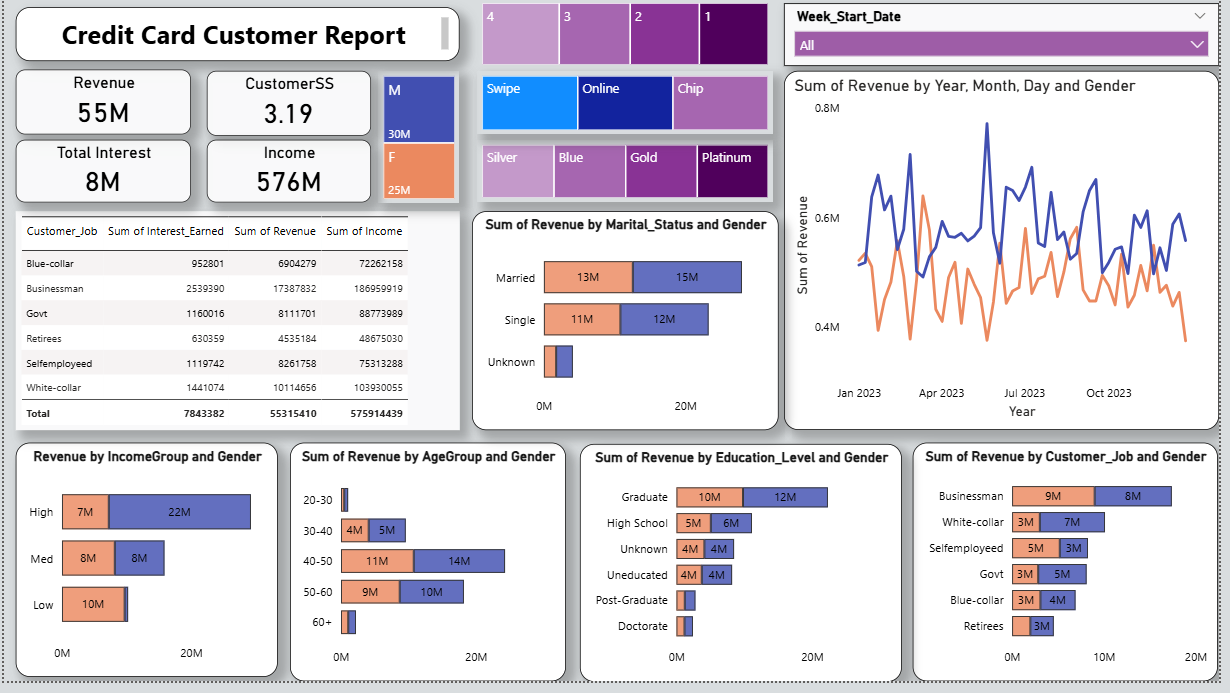

Layout of this report page (visuals, bound fields, positions):
{"tool":"powerbi","page":{"name":"Custmer2","canvas":[1280,720],"ordinal":1},"visuals":[{"type":"textbox","box":[12.9,9,467.5,56.8],"z":0},{"type":"barChart","title":"Revenue by IncomeGroup and Gender","fields":{"Y":["Sum(credit_card_detail.Revenue)"],"Category":["customer_detail.IncomeGroup"],"Series":["customer_detail.Gender"]},"box":[12.9,468.7,276.3,246.6],"z":1000},{"type":"tableEx","fields":{"Values":["customer_detail.Customer_Job","Sum(credit_card_detail.Interest_Earned)","Sum(credit_card_detail.Revenue)","Sum(customer_detail.Income)"]},"box":[12.9,224.7,467.5,231.1],"z":2000},{"type":"slicer","fields":{"Values":["credit_card_detail.Week_Start_Date"]},"box":[821.3,5.2,458.4,65.9],"z":3000},{"type":"treemap","fields":{"Group":["credit_card_detail.Qtr"],"Values":["Avg(credit_card_detail.Client_Num)"]},"box":[498.4,0,311.2,74.9],"z":4000},{"type":"treemap","fields":{"Group":["credit_card_detail.Card_Category"],"Values":["Avg(credit_card_detail.Client_Num)"]},"box":[498.4,149.8,311.2,65.9],"z":5000},{"type":"treemap","fields":{"Group":["credit_card_detail.Use_Chip"],"Values":["Avg(credit_card_detail.Client_Num)"]},"box":[498.4,76.2,311.2,67.1],"z":6000},{"type":"card","title":"Revenue","fields":{"Values":["Sum(credit_card_detail.Revenue)"]},"box":[12.9,74.9,184.7,68.4],"z":7000},{"type":"card","title":"Total Interest","fields":{"Values":["Sum(credit_card_detail.Interest_Earned)"]},"box":[12.9,149.8,184.7,65.9],"z":8000},{"type":"card","title":"CustomerSS","fields":{"Values":["Avg(customer_detail.Cust_Satisfaction_Score)"]},"box":[214.4,76.2,173,68.4],"z":9000},{"type":"card","title":"Income","fields":{"Values":["Sum(customer_detail.Income)"]},"box":[214.4,149.8,173,65.9],"z":10000},{"type":"lineChart","fields":{"Series":["customer_detail.Gender"],"Y":["Sum(credit_card_detail.Revenue)"],"Category":["credit_card_detail.Week_Start_Date.Variation.Date Hierarchy.Year","credit_card_detail.Week_Start_Date.Variation.Date Hierarchy.Month","credit_card_detail.Week_Start_Date.Variation.Date Hierarchy.Day"]},"box":[821.3,76.2,458.4,378.4],"z":11000},{"type":"treemap","fields":{"Group":["customer_detail.Gender"],"Values":["Sum(credit_card_detail.Revenue)"]},"box":[395.1,76.2,85.2,139.5],"z":12000},{"type":"barChart","fields":{"Y":["Sum(credit_card_detail.Revenue)"],"Category":["customer_detail.AgeGroup"],"Series":["customer_detail.Gender"]},"box":[300.9,468.7,290.5,251.8],"z":13000},{"type":"barChart","fields":{"Y":["Sum(credit_card_detail.Revenue)"],"Category":["customer_detail.Customer_Job"],"Series":["customer_detail.Gender"]},"box":[958.1,468.7,321.5,251.8],"z":14000},{"type":"barChart","fields":{"Y":["Sum(credit_card_detail.Revenue)"],"Category":["customer_detail.Education_Level"],"Series":["customer_detail.Gender"]},"box":[606.9,470,339.6,250.5],"z":15000},{"type":"barChart","fields":{"Y":["Sum(credit_card_detail.Revenue)"],"Category":["customer_detail.Marital_Status"],"Series":["customer_detail.Gender"]},"box":[493.3,224.7,322.8,231.1],"z":17000}]}

Visuals, with their boxes in screenshot pixels (x1, y1, x2, y2), scaled from the page's 1280x720 canvas onto the 1230x693 screenshot:
textbox: [left=12, top=9, right=462, bottom=63]
"Revenue by IncomeGroup and Gender" barChart: [left=12, top=451, right=278, bottom=688]
tableEx - customer_detail.Customer_Job x Sum(credit_card_detail.Interest_Earned): [left=12, top=216, right=462, bottom=439]
slicer - credit_card_detail.Week_Start_Date: [left=789, top=5, right=1229, bottom=68]
treemap - credit_card_detail.Qtr x Avg(credit_card_detail.Client_Num): [left=479, top=0, right=778, bottom=72]
treemap - credit_card_detail.Card_Category x Avg(credit_card_detail.Client_Num): [left=479, top=144, right=778, bottom=208]
treemap - credit_card_detail.Use_Chip x Avg(credit_card_detail.Client_Num): [left=479, top=73, right=778, bottom=138]
"Revenue" card: [left=12, top=72, right=190, bottom=138]
"Total Interest" card: [left=12, top=144, right=190, bottom=208]
"CustomerSS" card: [left=206, top=73, right=372, bottom=139]
"Income" card: [left=206, top=144, right=372, bottom=208]
lineChart - customer_detail.Gender x Sum(credit_card_detail.Revenue): [left=789, top=73, right=1229, bottom=438]
treemap - customer_detail.Gender x Sum(credit_card_detail.Revenue): [left=380, top=73, right=462, bottom=208]
barChart - Sum(credit_card_detail.Revenue) x customer_detail.AgeGroup: [left=289, top=451, right=568, bottom=692]
barChart - Sum(credit_card_detail.Revenue) x customer_detail.Customer_Job: [left=921, top=451, right=1229, bottom=692]
barChart - Sum(credit_card_detail.Revenue) x customer_detail.Education_Level: [left=583, top=452, right=910, bottom=692]
barChart - Sum(credit_card_detail.Revenue) x customer_detail.Marital_Status: [left=474, top=216, right=784, bottom=439]
